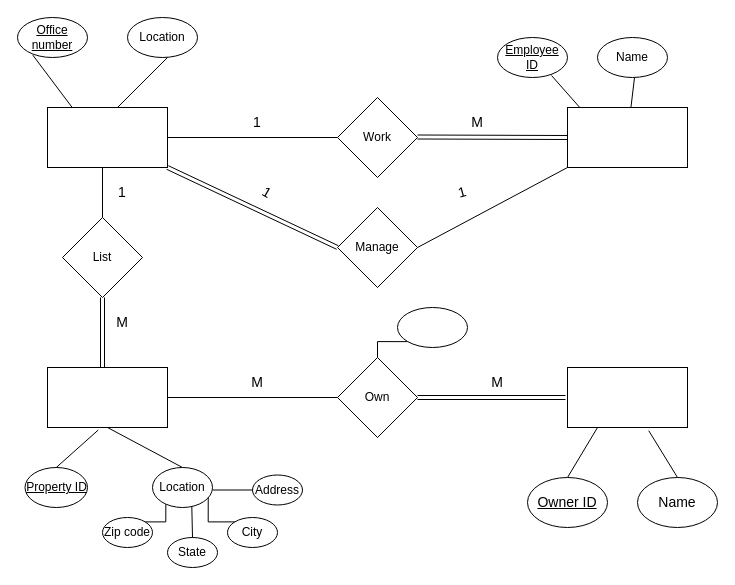
Image size: 735x585. Some labels were removed from this diagram. Here are the shapes that lost their labels. From the top down, the centre of each, then its label:
point 107,137: Sales office
point 627,137: Employee
point 432,327: Percentage
point 107,397: Property
point 627,397: Owner
